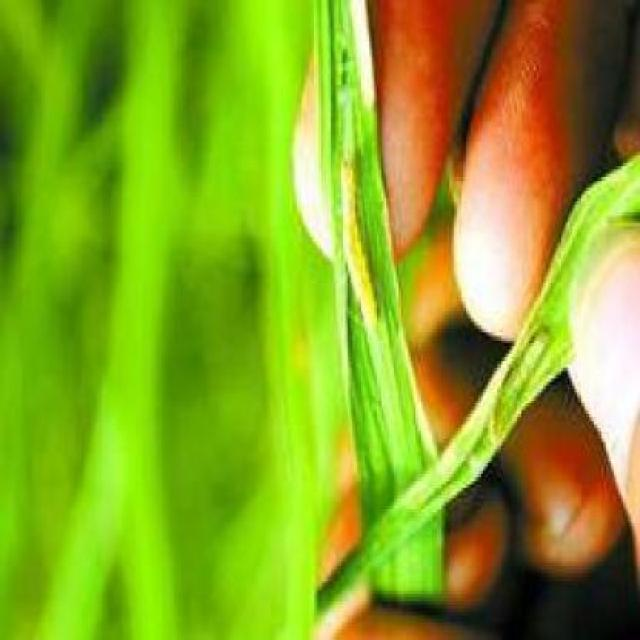leaf-folder: (300, 128, 414, 360), (481, 296, 584, 466)
